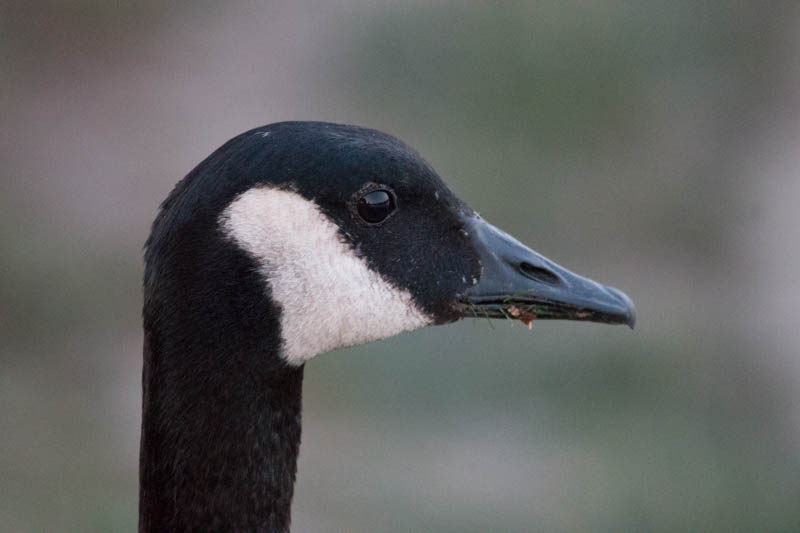goose-head: (144, 120, 636, 369)
